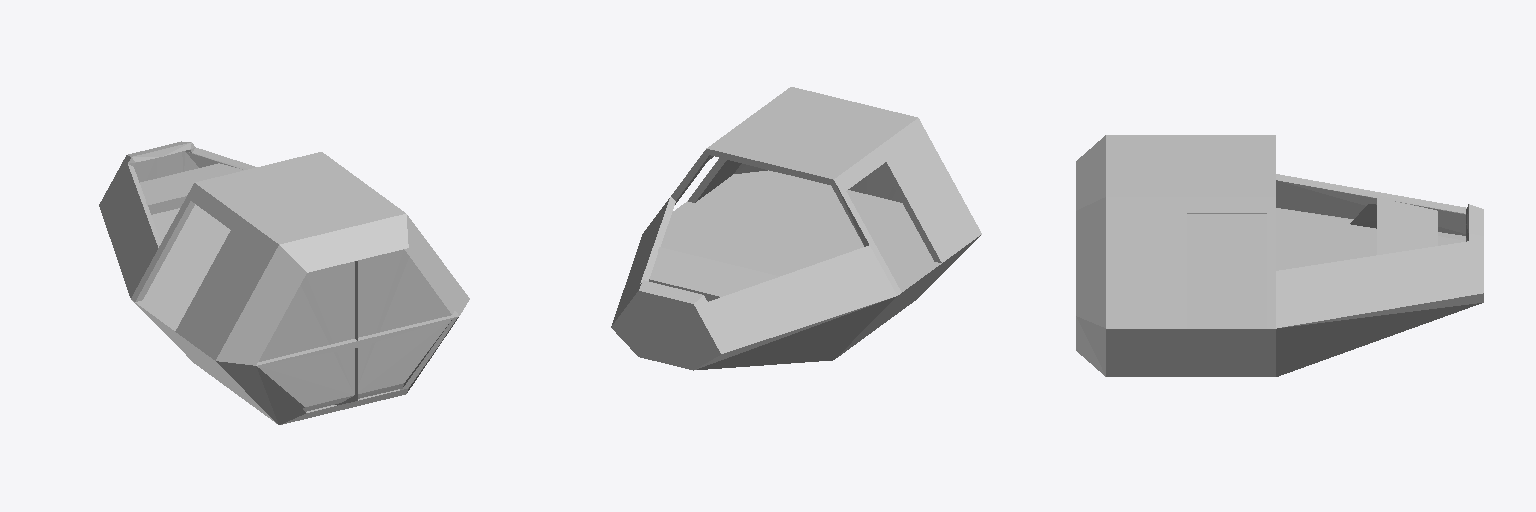
File: safety_capsule.obj
3 views of the same model, side by side, from view 1: azimuth 30°, elevation 25°; view 2: azimuth 150°, elevation 25°; view 3: azimuth 270°, elevation 25° (orthographic).
Parts seen in each view (by area): view 1: Cylinder.001_Cylinder_Material.001; view 2: Cylinder.001_Cylinder_Material.001; view 3: Cylinder.001_Cylinder_Material.001.
Part boxes in pixels (bbox=[...]): Cylinder.001_Cylinder_Material.001: bbox=[99, 141, 469, 424]; Cylinder.001_Cylinder_Material.001: bbox=[611, 87, 981, 370]; Cylinder.001_Cylinder_Material.001: bbox=[1076, 135, 1483, 376].
Bounding box in the file's own units: 4.96 × 3.36 × 6.87.